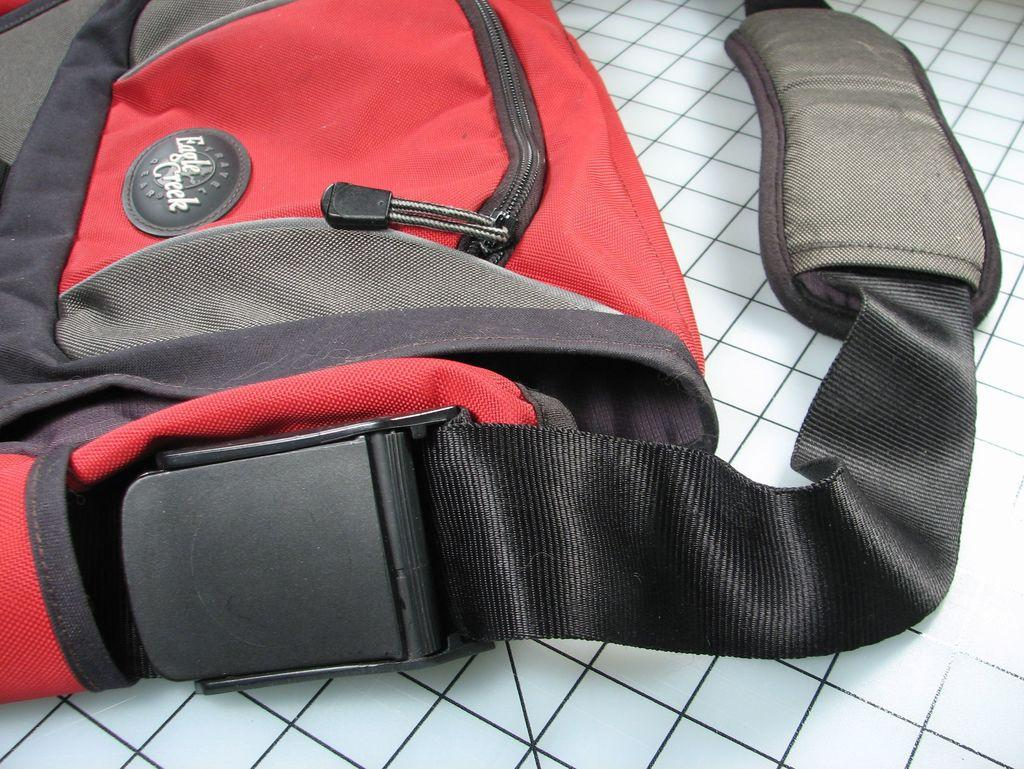Luggage-and-bags: (0, 0, 1001, 701)
